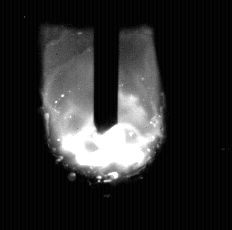arame: (95, 0, 119, 134)
poca: (50, 0, 160, 230)
